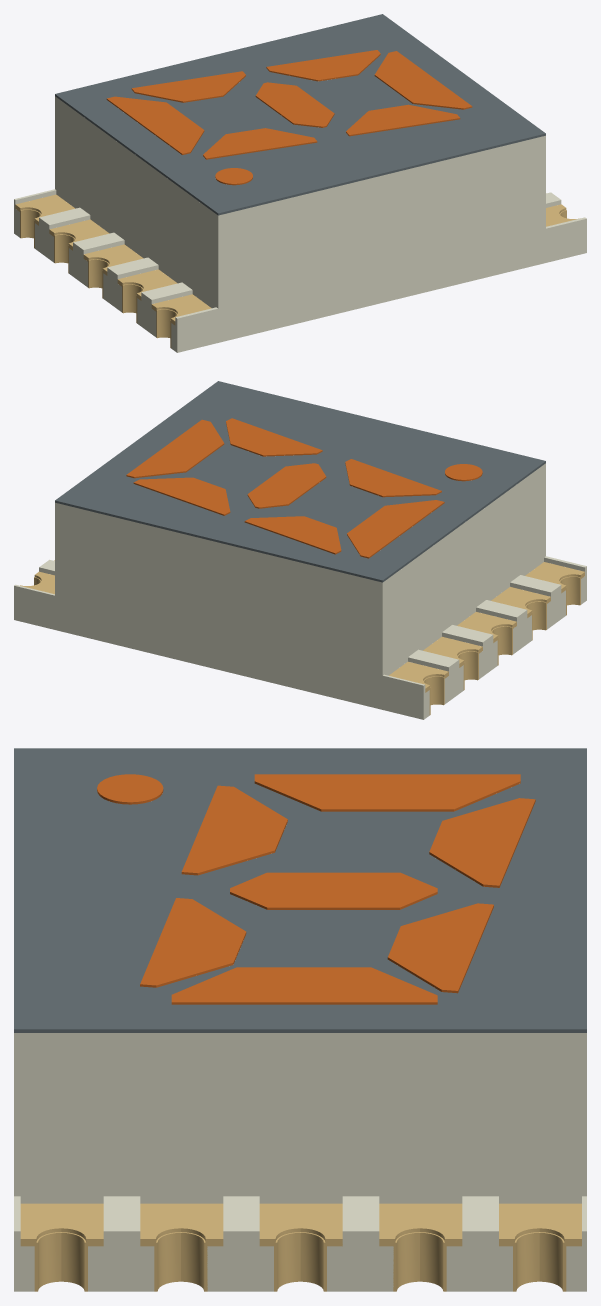
File: kc-kcsc02-106.glb
3 views of the same model, one above another, from view 1: azimuth 30°, elevation 25°; view 2: azimuth 150°, elevation 25°; view 3: azimuth 270°, elevation 25° (orthographic). The views are drawn at different scales.
Parts seen in each view (by area): view 1: 0.75_0.75_0.6666666666666666_0, 0.16666666666666666_0.16666666666666666_0.16666666666666666_, 0.5833333333333334_0.16666666666666666_0_0, 0.75_0.5_0.25_0.9; view 2: 0.75_0.75_0.6666666666666666_0, 0.16666666666666666_0.16666666666666666_0.16666666666666666_, 0.5833333333333334_0.16666666666666666_0_0, 0.75_0.5_0.25_0.9; view 3: 0.75_0.75_0.6666666666666666_0, 0.16666666666666666_0.16666666666666666_0.16666666666666666_, 0.5833333333333334_0.16666666666666666_0_0, 0.75_0.5_0.25_0.9.
Boxes of the visible parts, x1=… form: 0.75_0.75_0.6666666666666666_0: x1=14, y1=96, x2=586, y2=352; 0.16666666666666666_0.16666666666666666_0.16666666666666666_: x1=55, y1=14, x2=545, y2=215; 0.5833333333333334_0.16666666666666666_0_0: x1=106, y1=50, x2=472, y2=185; 0.75_0.5_0.25_0.9: x1=15, y1=194, x2=578, y2=348; 0.75_0.75_0.6666666666666666_0: x1=14, y1=463, x2=586, y2=719; 0.16666666666666666_0.16666666666666666_0.16666666666666666_: x1=55, y1=381, x2=545, y2=582; 0.5833333333333334_0.16666666666666666_0_0: x1=126, y1=418, x2=482, y2=558; 0.75_0.5_0.25_0.9: x1=20, y1=560, x2=584, y2=715; 0.75_0.75_0.6666666666666666_0: x1=14, y1=1033, x2=586, y2=1291; 0.16666666666666666_0.16666666666666666_0.16666666666666666_: x1=14, y1=748, x2=586, y2=1032; 0.5833333333333334_0.16666666666666666_0_0: x1=97, y1=774, x2=535, y2=1004; 0.75_0.5_0.25_0.9: x1=20, y1=1203, x2=581, y2=1291.
Bounding box in the file's own units: 1 × 0.305 × 0.69.
